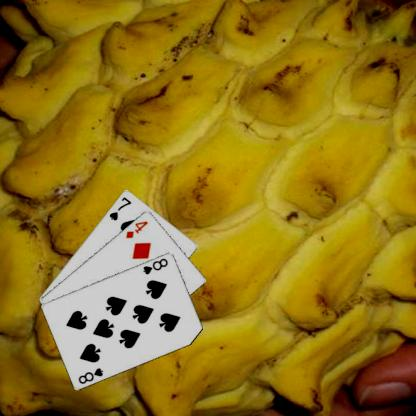4D: (123, 218, 149, 239)
7S: (106, 193, 132, 222)
8S: (75, 365, 105, 385), (140, 255, 169, 275)
